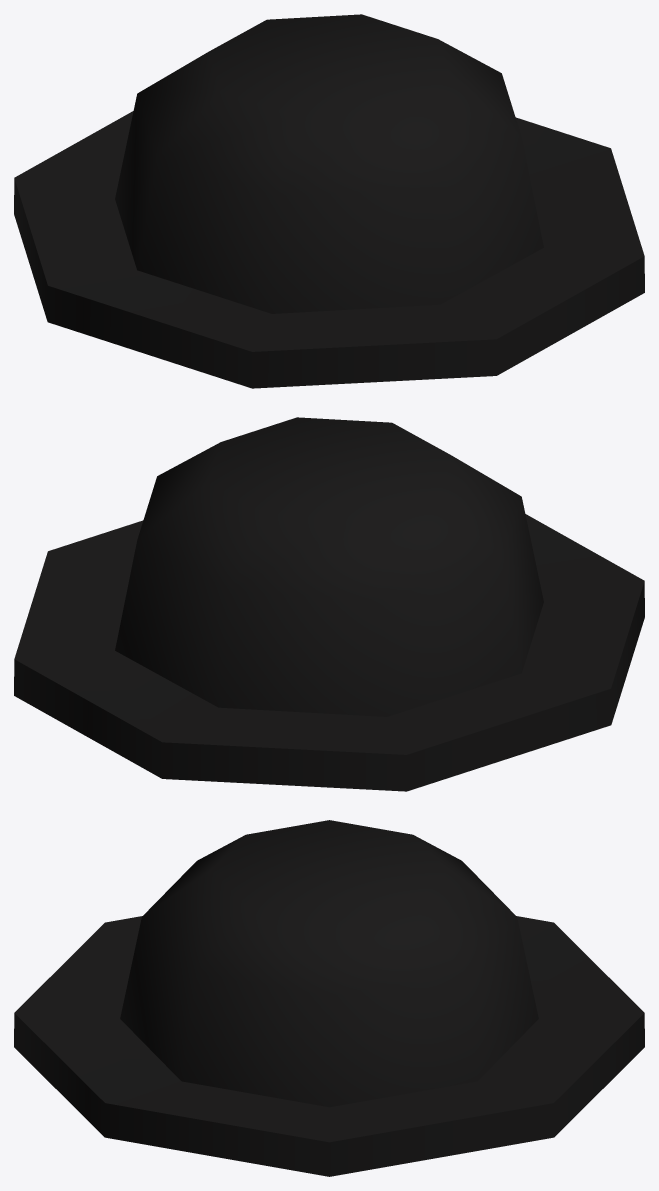
File: Charakter_Businessman_cup.FBX
The picture shows the model from 3 angles, top to bottom: view 1: azimuth 30°, elevation 25°; view 2: azimuth 150°, elevation 25°; view 3: azimuth 270°, elevation 25°; orthographic projection. The views are drawn at different scales.
Parts seen in each view (by area): view 1: Charakter_Businessman_cup; view 2: Charakter_Businessman_cup; view 3: Charakter_Businessman_cup.
Boxes of the visible parts, bbox=[...] form: Charakter_Businessman_cup: bbox=[14, 14, 644, 388]; Charakter_Businessman_cup: bbox=[14, 417, 644, 791]; Charakter_Businessman_cup: bbox=[14, 820, 644, 1176].
Size of the model in its own units: 190 by 60.51 by 195.
